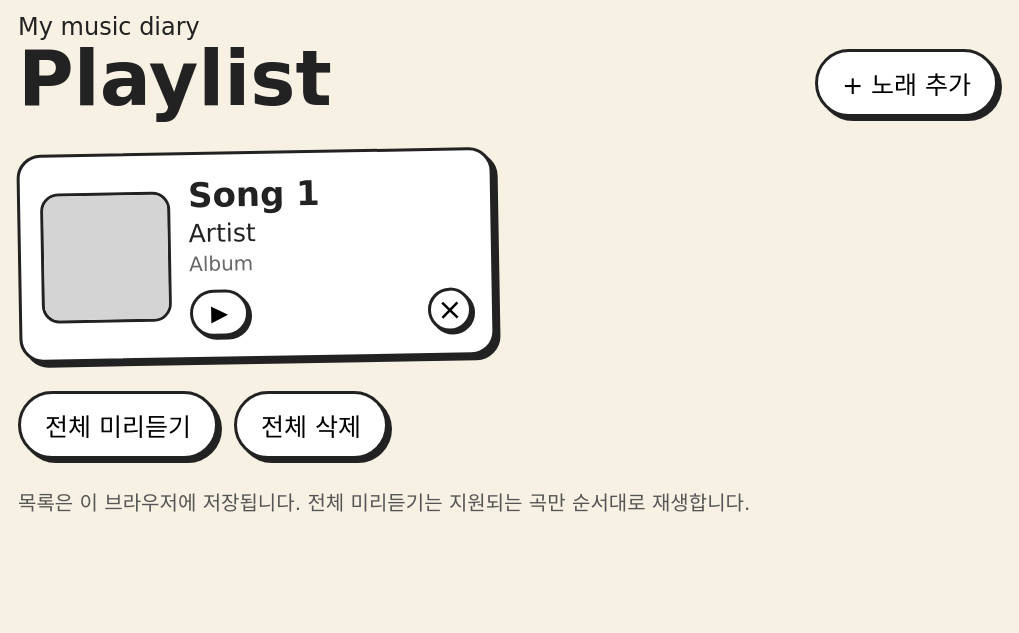
audio error resets controls
Click the button "전체 미리듣기" at (118, 425), box [18,391,218,459]
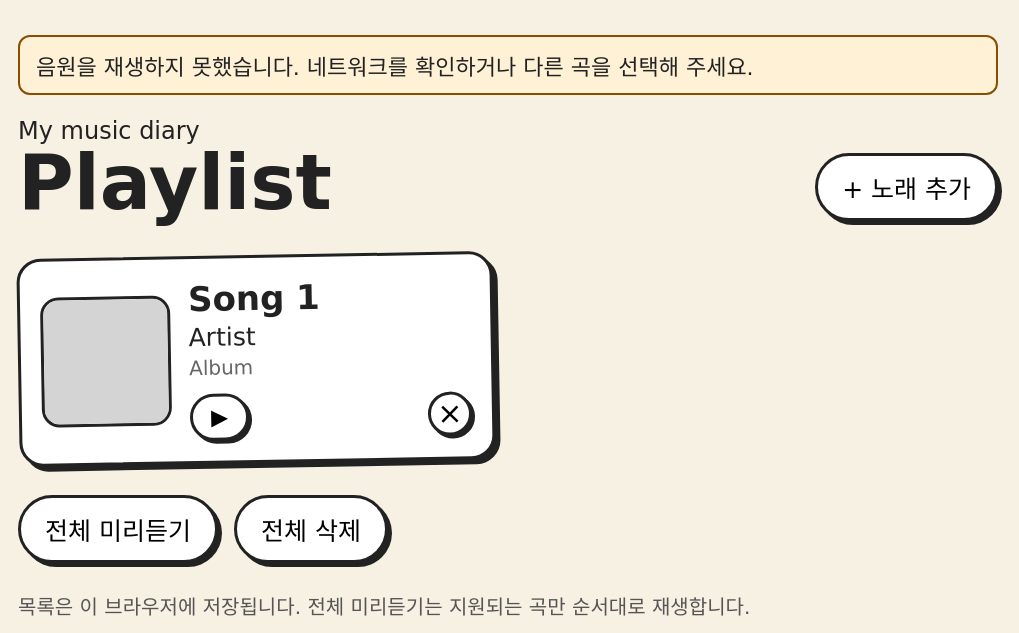
Check: the button "전체 미리듣기" is shown, box [18,495,218,563]
Check: the message shows "재생하지 못했습니다", box [36,55,754,80]
